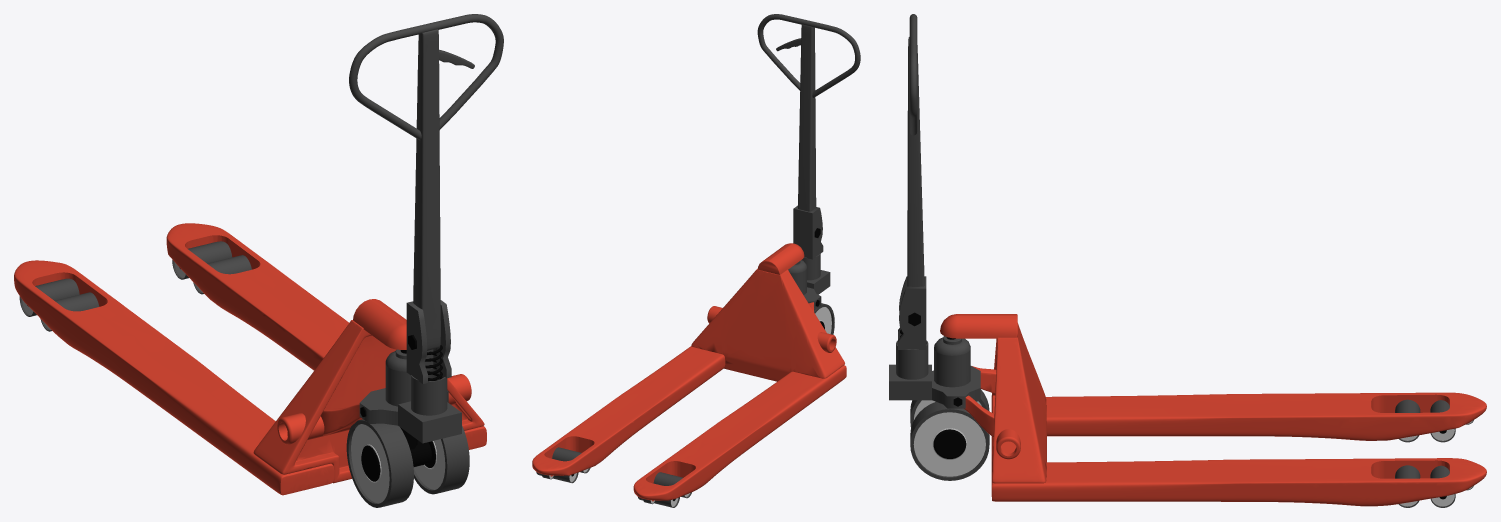
File: simple_warehouse_pallet_hand_truck.glb
3 views of the same model, side by side, from view 1: azimuth 30°, elevation 25°; view 2: azimuth 150°, elevation 25°; view 3: azimuth 270°, elevation 25° (orthographic). The views are drawn at different scales.
Visible parts, largest first — view 1: main_body, hydrolic_arm_1, rear_wheel, front_pump_wheel, hydrolic_support, hydrolics_1, wheel_supports; view 2: main_body, hydrolic_arm_1, front_pump_wheel, hydrolics_1, hydrolic_support, rear_wheel; view 3: main_body, hydrolic_arm_1, rear_wheel, hydrolics_1, hydrolic_support, front_pump_wheel.
Part boxes in pixels (bbox=[...]): main_body: bbox=[14, 223, 486, 495]; hydrolic_arm_1: bbox=[349, 14, 503, 383]; rear_wheel: bbox=[346, 419, 469, 507]; front_pump_wheel: bbox=[19, 241, 251, 331]; hydrolic_support: bbox=[359, 388, 461, 443]; hydrolics_1: bbox=[385, 349, 447, 415]; wheel_supports: bbox=[400, 427, 431, 466]; main_body: bbox=[532, 243, 846, 500]; hydrolic_arm_1: bbox=[757, 14, 860, 259]; front_pump_wheel: bbox=[536, 447, 691, 507]; hydrolics_1: bbox=[788, 253, 820, 294]; hydrolic_support: bbox=[803, 270, 830, 310]; rear_wheel: bbox=[814, 303, 834, 334]; main_body: bbox=[940, 314, 1486, 506]; hydrolic_arm_1: bbox=[898, 14, 926, 349]; rear_wheel: bbox=[910, 389, 989, 480]; hydrolics_1: bbox=[896, 336, 970, 387]; hydrolic_support: bbox=[889, 364, 980, 408]; front_pump_wheel: bbox=[1395, 399, 1455, 507].
Bounding box in the file's own units: 171 × 383 × 483.
Materials: 3 (3 with a texture image).
